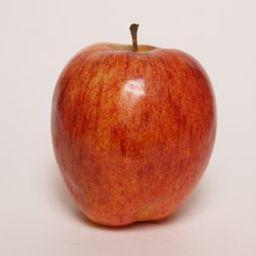apple: (49, 37, 215, 227)
